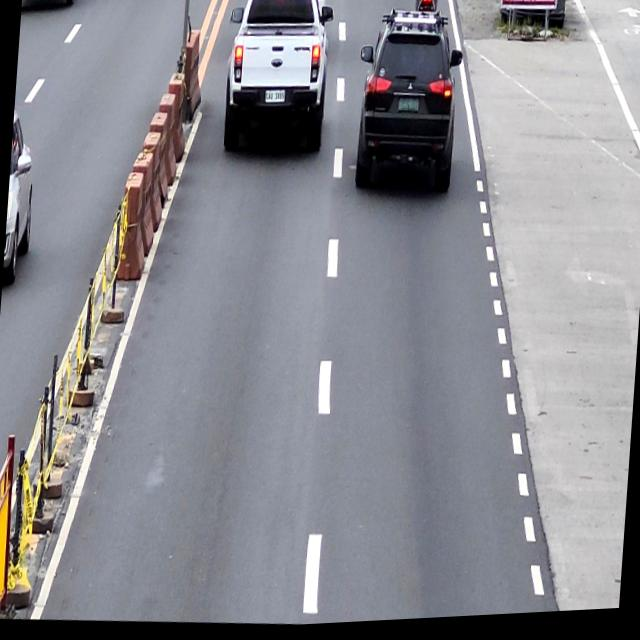Car: (350, 8, 467, 200), (220, 0, 335, 160)
License-Plate: (397, 100, 420, 118), (264, 92, 286, 108)
